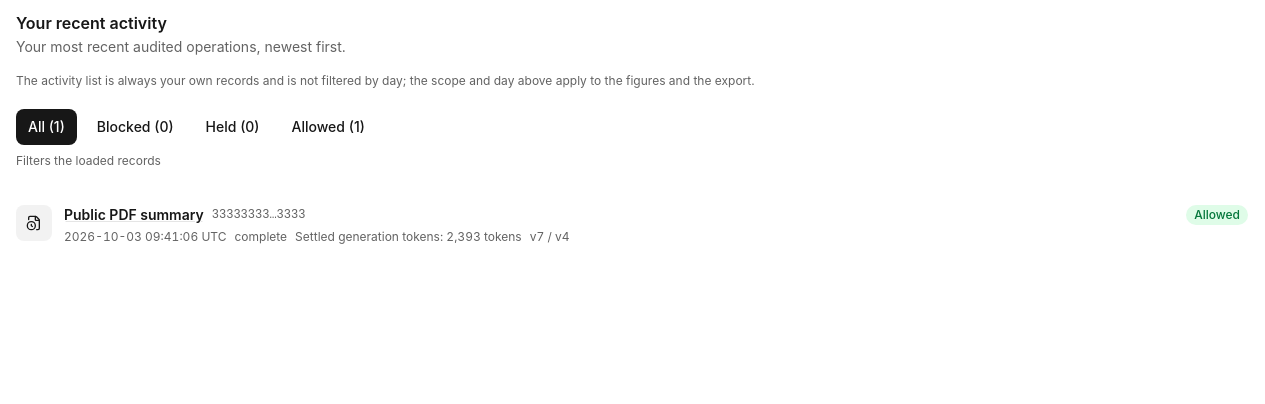
Test: decision filters › shows an empty state for a filter with no loaded rows
The image size is (1265, 404).
Click the button "Blocked (0)". click: [135, 127]
box: [85,109,186,145]
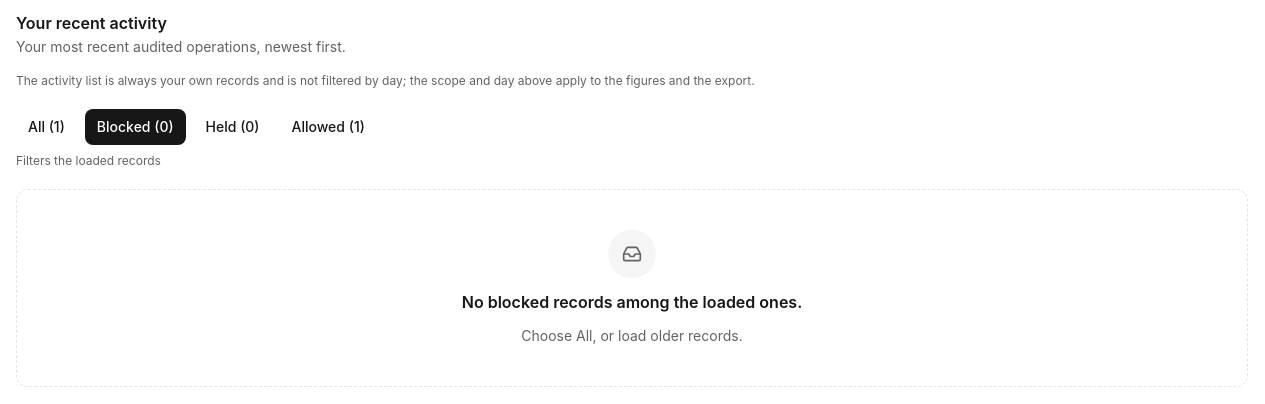
Result: the heading "No blocked records among the loaded ones." is shown at [462,290,802,314]
